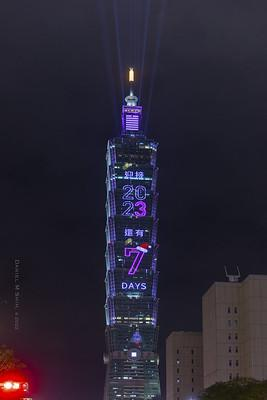building: (96, 66, 167, 400)
